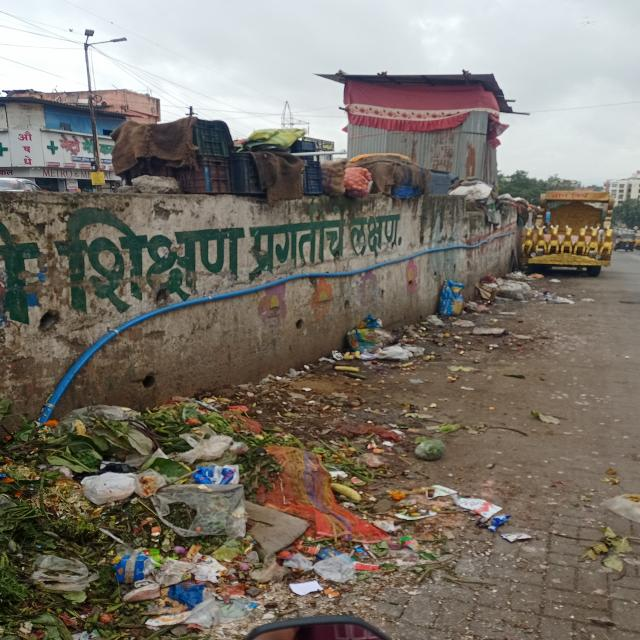garbage: (6, 403, 382, 637), (333, 321, 442, 371), (468, 272, 557, 311)
